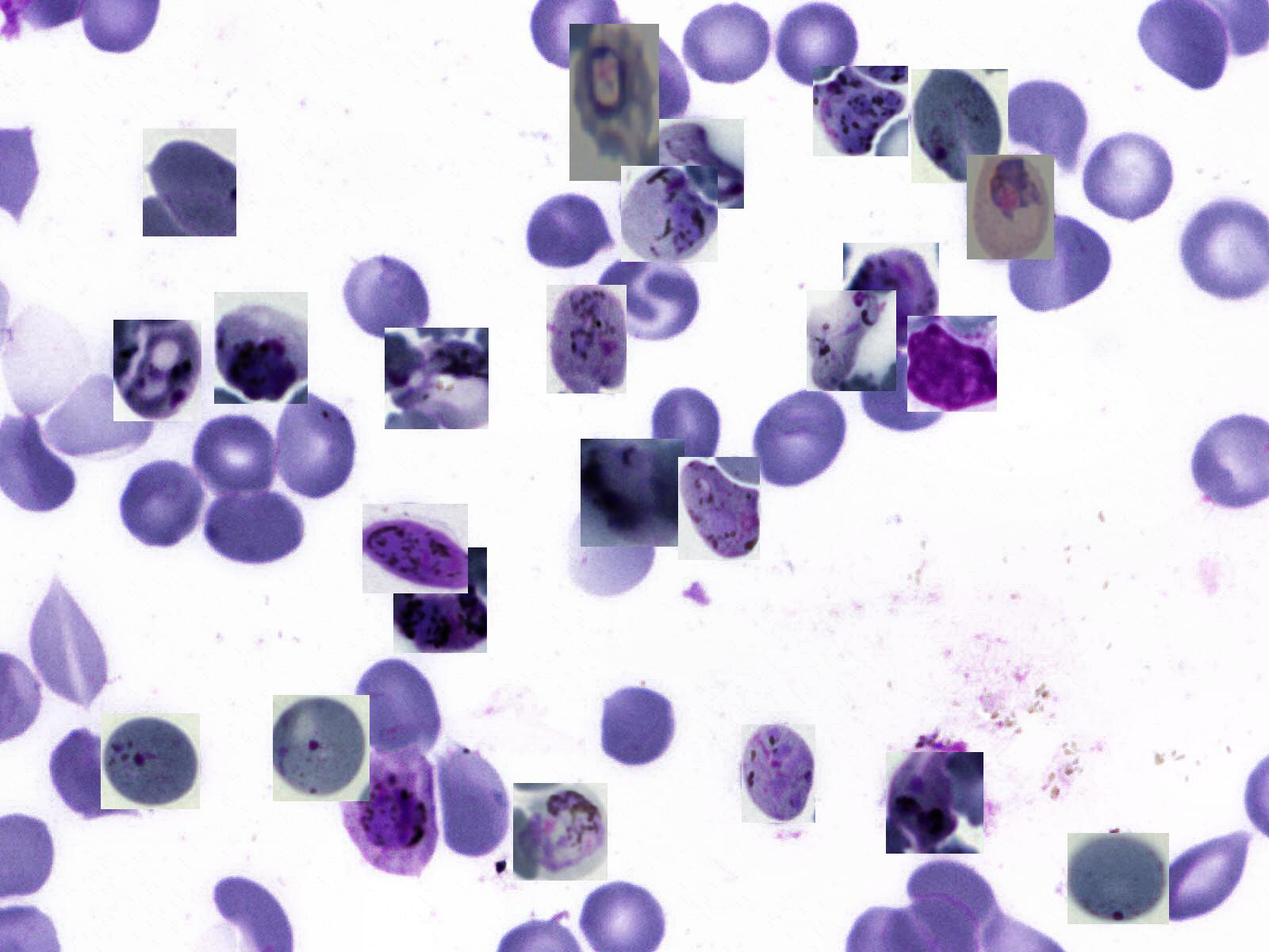Infected: (336, 745, 440, 881), (569, 24, 659, 181), (581, 439, 684, 547), (911, 69, 1008, 183), (214, 292, 308, 404), (385, 328, 489, 429), (843, 243, 939, 351), (273, 695, 370, 801), (393, 547, 487, 653), (143, 129, 236, 236), (886, 752, 983, 854), (637, 119, 744, 209), (101, 713, 200, 809), (362, 504, 468, 593), (621, 166, 718, 262), (513, 783, 608, 881), (1068, 833, 1169, 924), (967, 155, 1054, 259), (807, 290, 896, 391), (113, 320, 201, 421), (546, 286, 627, 394), (907, 316, 997, 412), (813, 66, 908, 156), (679, 457, 761, 560), (742, 724, 815, 823)
Uninfected: (26, 574, 109, 709), (1150, 823, 1254, 921), (600, 247, 704, 343), (1007, 214, 1111, 309), (43, 374, 155, 461), (599, 24, 691, 129), (753, 388, 849, 487), (562, 502, 656, 602), (340, 246, 435, 344), (355, 657, 445, 760), (1079, 127, 1175, 221), (276, 390, 356, 500), (117, 455, 208, 551), (47, 727, 138, 823), (773, 1, 864, 94), (439, 745, 513, 859), (999, 80, 1090, 171), (853, 351, 950, 436), (203, 489, 310, 566), (191, 409, 280, 500), (524, 190, 619, 272), (650, 385, 722, 493), (593, 679, 677, 768), (679, 6, 772, 85)
